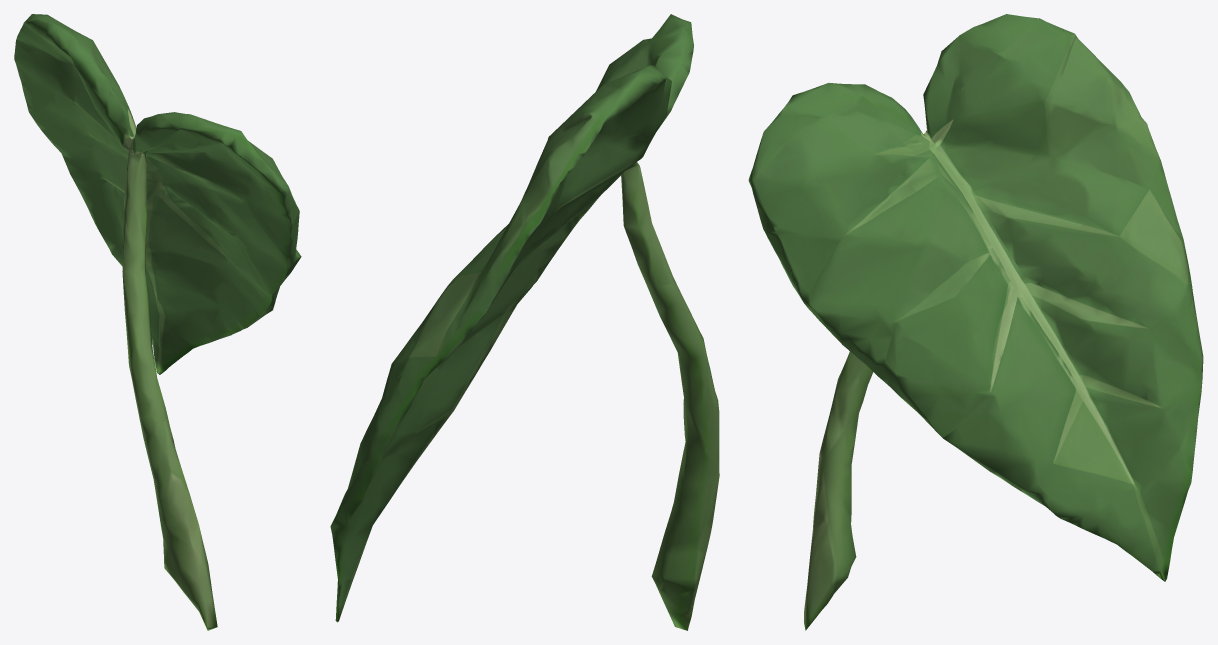
Rendered from sc_leaf_mid.glb.
The picture shows the model from 3 angles, left to right: view 1: azimuth 30°, elevation 25°; view 2: azimuth 150°, elevation 25°; view 3: azimuth 270°, elevation 25°; orthographic projection. The views are drawn at different scales.
Visible parts, largest first — view 1: tripo_node_f7c7ac50-ed83-4cce-b5a6-af09d7b1b476; view 2: tripo_node_f7c7ac50-ed83-4cce-b5a6-af09d7b1b476; view 3: tripo_node_f7c7ac50-ed83-4cce-b5a6-af09d7b1b476.
Boxes of the visible parts, left/top/right/bottom form: tripo_node_f7c7ac50-ed83-4cce-b5a6-af09d7b1b476: left=14, top=14, right=301, bottom=630; tripo_node_f7c7ac50-ed83-4cce-b5a6-af09d7b1b476: left=330, top=14, right=719, bottom=630; tripo_node_f7c7ac50-ed83-4cce-b5a6-af09d7b1b476: left=748, top=14, right=1203, bottom=630.
Bounding box in the file's own units: 0.4052 × 1 × 0.7066.
1 material, 1 textured.
